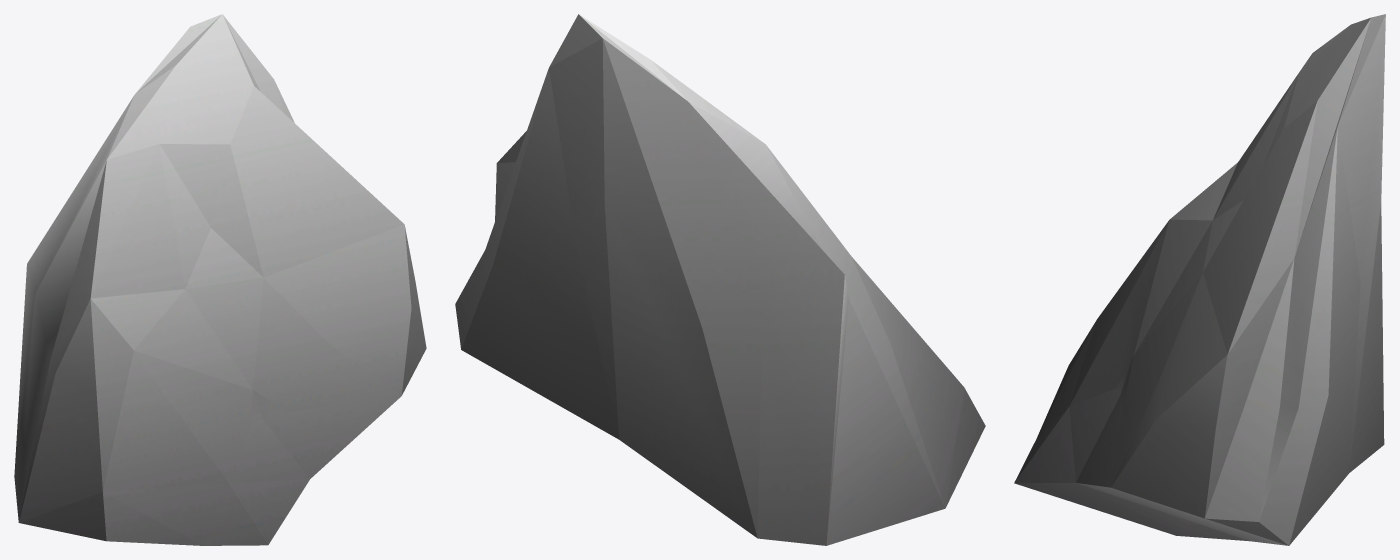
The picture shows the model from 3 angles, left to right: view 1: azimuth 30°, elevation 25°; view 2: azimuth 150°, elevation 25°; view 3: azimuth 270°, elevation 25°; orthographic projection. The views are drawn at different scales.
Parts seen in each view (by area): view 1: SharpRock2; view 2: SharpRock2; view 3: SharpRock2.
Part boxes in pixels (left/top/right/bottom): SharpRock2: left=14, top=14, right=426, bottom=545; SharpRock2: left=455, top=14, right=985, bottom=545; SharpRock2: left=1014, top=14, right=1385, bottom=545.
Size of the model in its own units: 60.11 by 60 by 36.66.
1 material, 1 textured.
